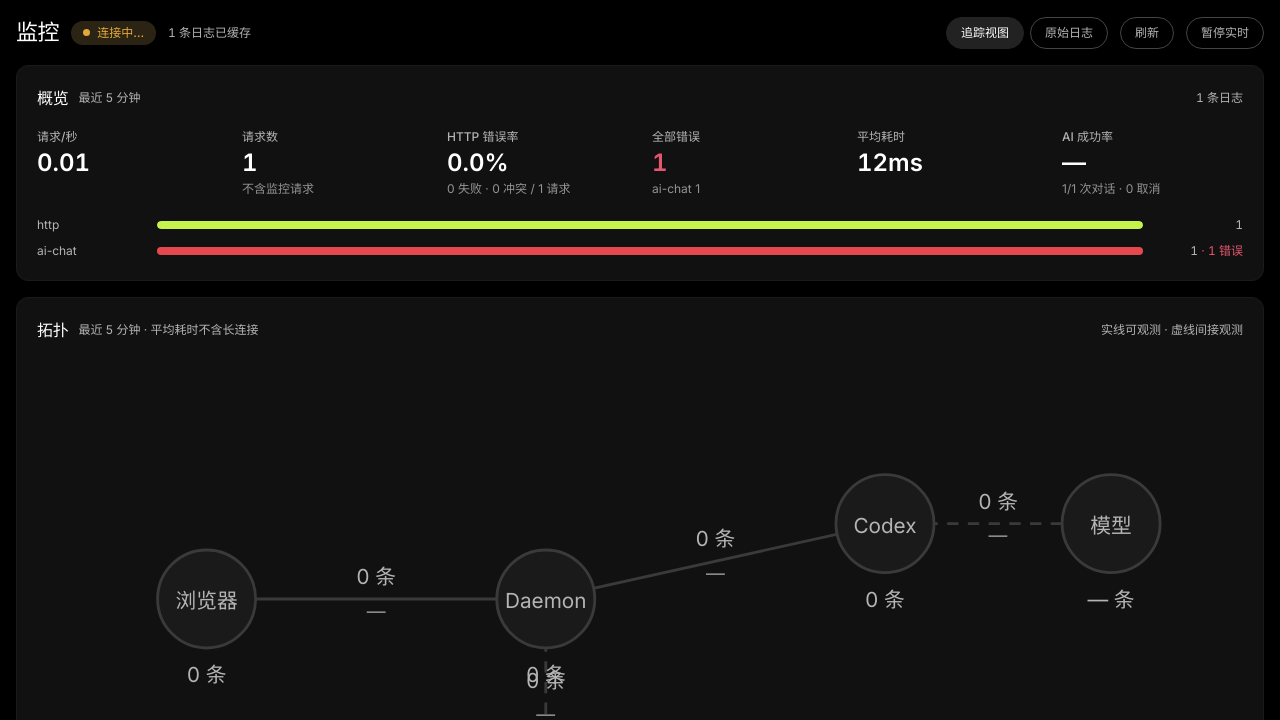
Scenario: 语义化文本中文化 › 监控页：日志、统计、追踪文案中文化，分类名与级别不再显示英文
Expected: the text "HTTP 错误率" is shown, [447,129,518,144]
Note: 默认视图是追踪列表；逐条文案在「原始日志」开关后。
Click the button "原始日志". click: (1069, 32)
box: [1030,16,1108,48]
(page scrolled)
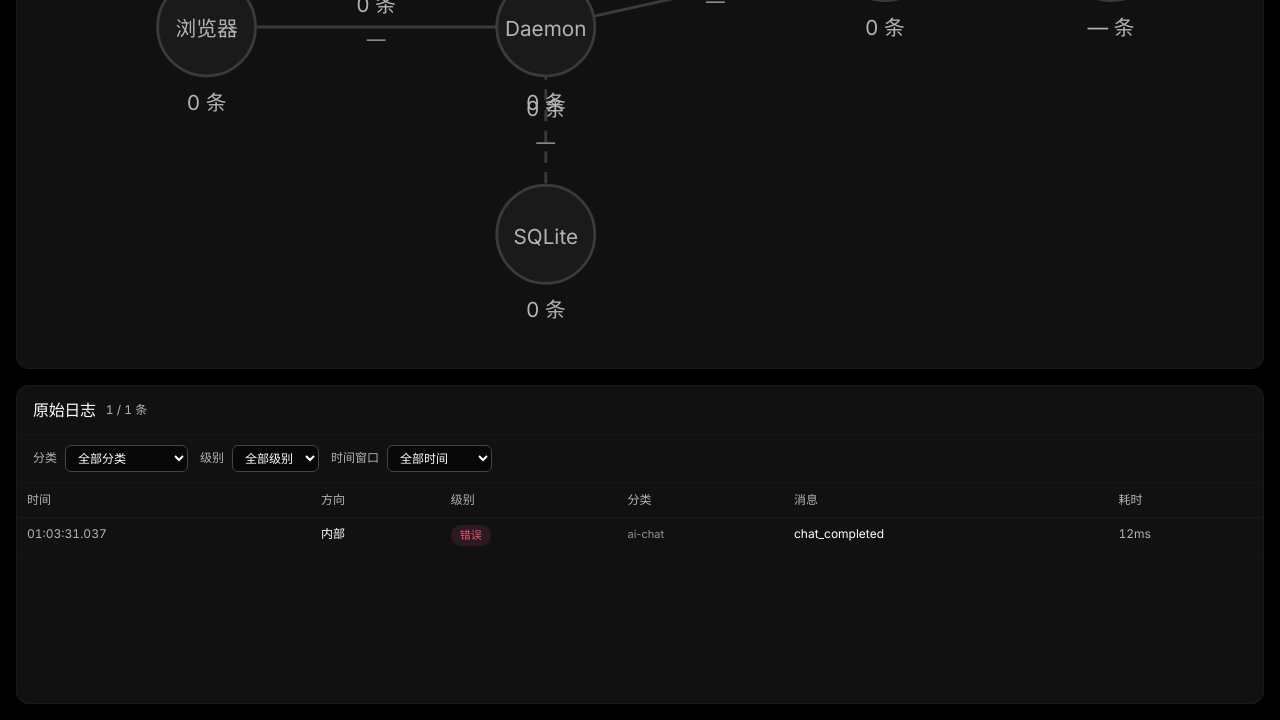
Expected: the text "chat_completed" is shown, [794,526,884,541]
